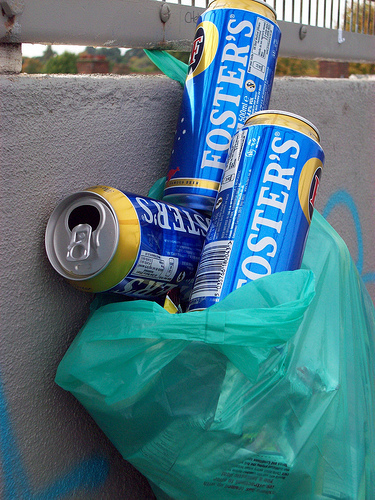litter: (50, 296, 375, 500), (186, 108, 324, 306), (163, 0, 283, 210), (40, 184, 184, 293), (320, 189, 375, 295)
